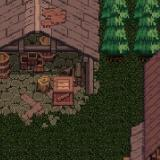Hide: (14, 81, 82, 150)
Obstacle: (0, 0, 102, 128), (102, 0, 160, 160)
